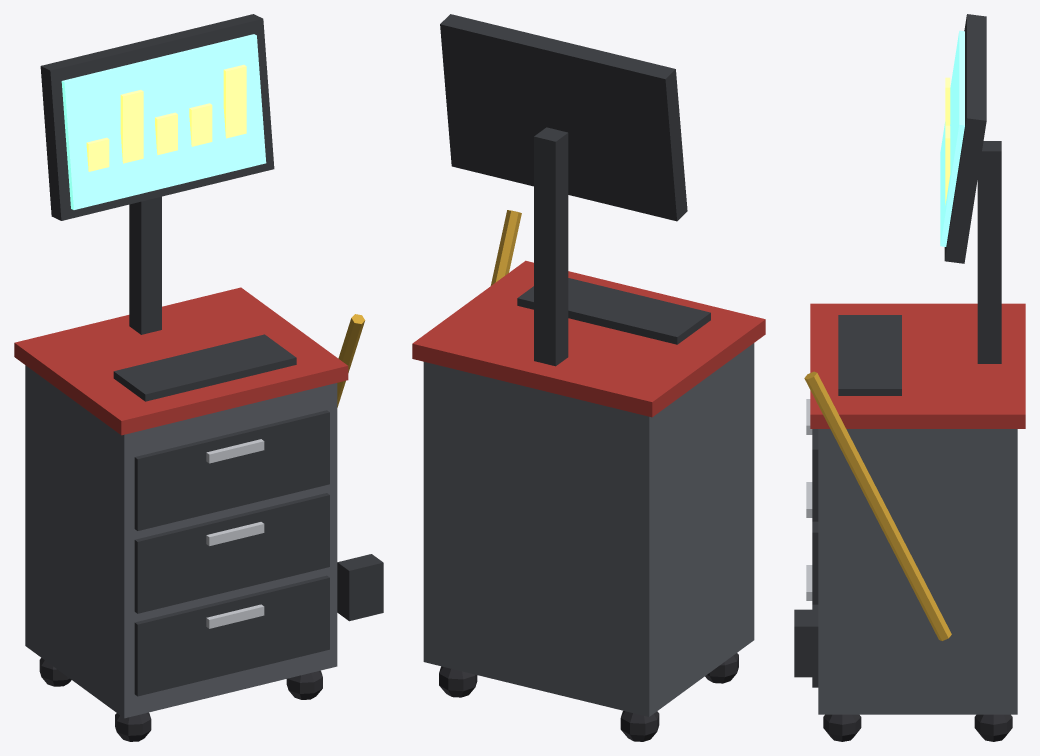
Rendered from diagnostic_cart.glb.
3 views of the same model, side by side, from view 1: azimuth 30°, elevation 25°; view 2: azimuth 150°, elevation 25°; view 3: azimuth 270°, elevation 25° (orthographic). The views are drawn at different scales.
Parts seen in each view (by area): view 1: diagnostic_cart; view 2: diagnostic_cart; view 3: diagnostic_cart.
Boxes of the visible parts, x1,y1,x2,y2 form: diagnostic_cart: (14, 14, 383, 741); diagnostic_cart: (412, 14, 765, 741); diagnostic_cart: (794, 14, 1025, 741).
Bounding box in the file's own units: 0.74 × 1.75 × 0.58.
